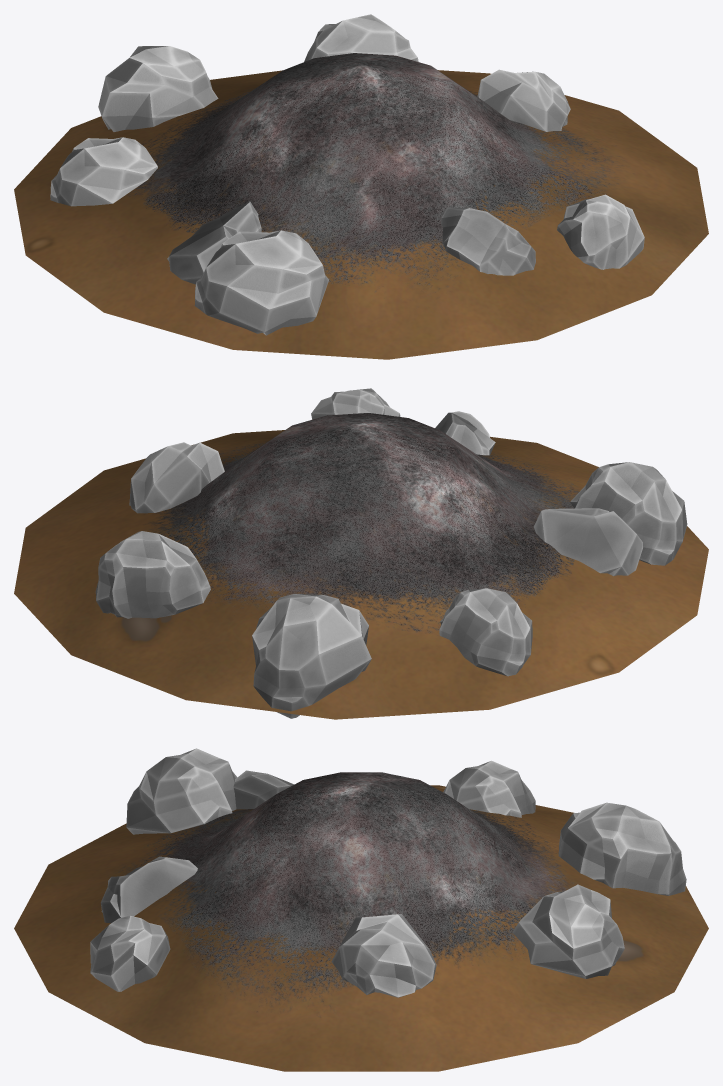
The model's file is Unlitfire2.FBX.
3 views of the same model, one above another, from view 1: azimuth 30°, elevation 25°; view 2: azimuth 150°, elevation 25°; view 3: azimuth 270°, elevation 25° (orthographic).
Parts seen in each view (by area): view 1: Sphere001; view 2: Sphere001; view 3: Sphere001.
Boxes of the visible parts, x1,y1,x2,y2 form: Sphere001: [14, 14, 708, 359]; Sphere001: [14, 388, 708, 719]; Sphere001: [14, 748, 708, 1071].
Size of the model in its own units: 885 by 232 by 907.
